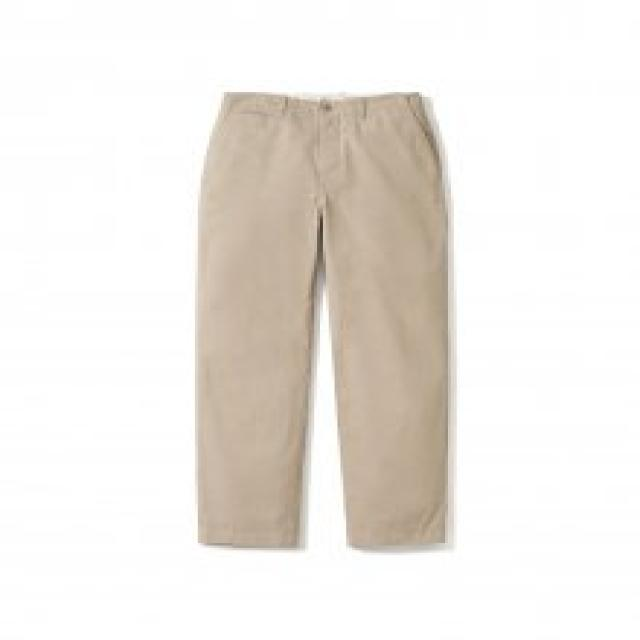long-pants: (190, 90, 452, 552)
